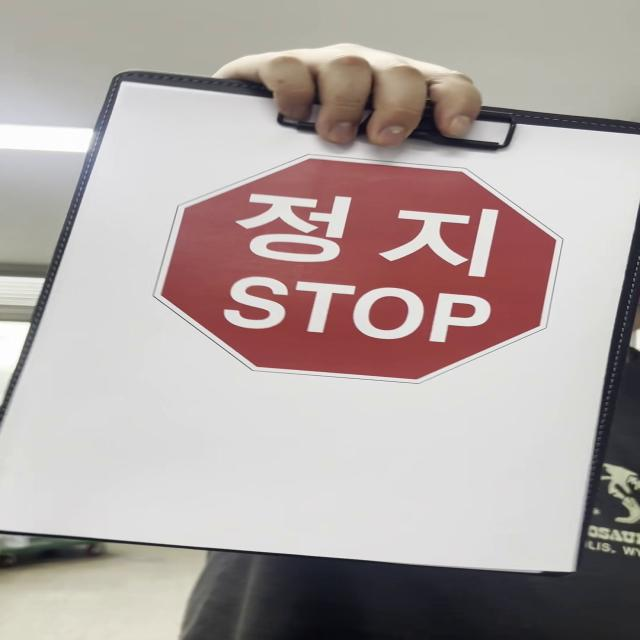stop: (154, 152, 569, 384)
